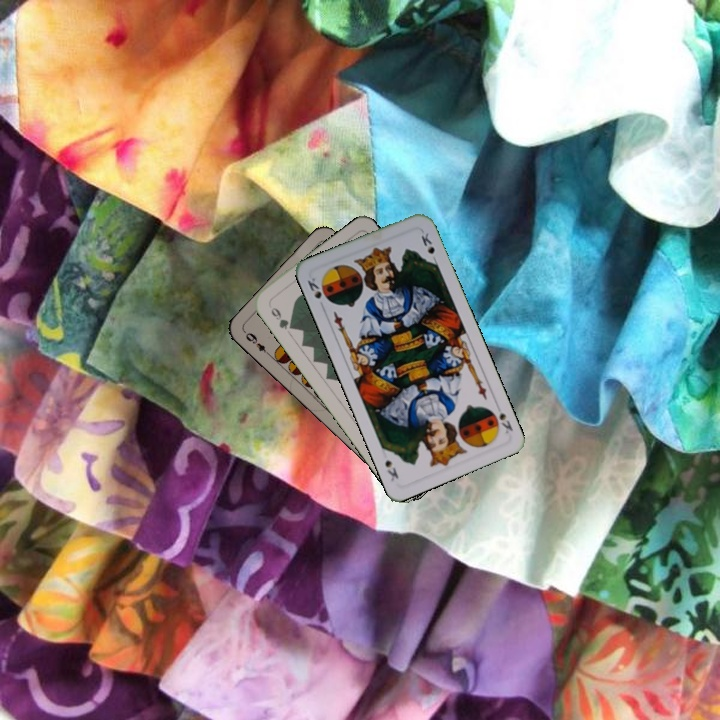E9: (240, 328, 273, 359)
G9: (265, 300, 297, 332)
SK: (491, 399, 516, 436), (303, 273, 324, 302)
